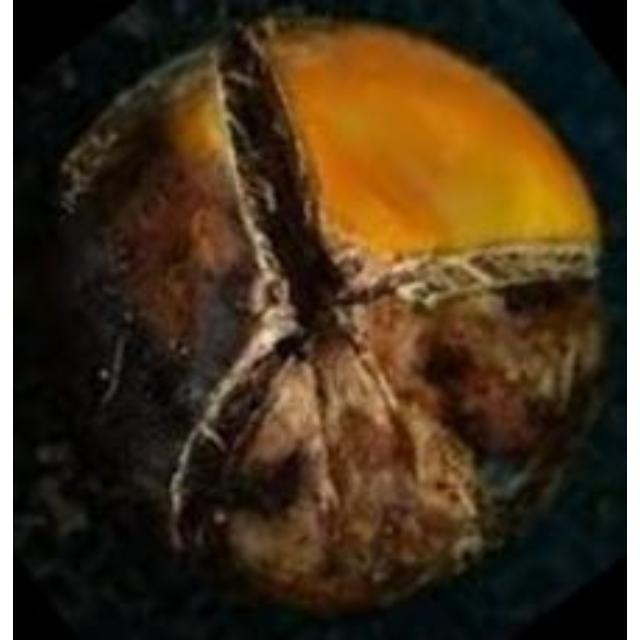damaged: (30, 17, 611, 620)
